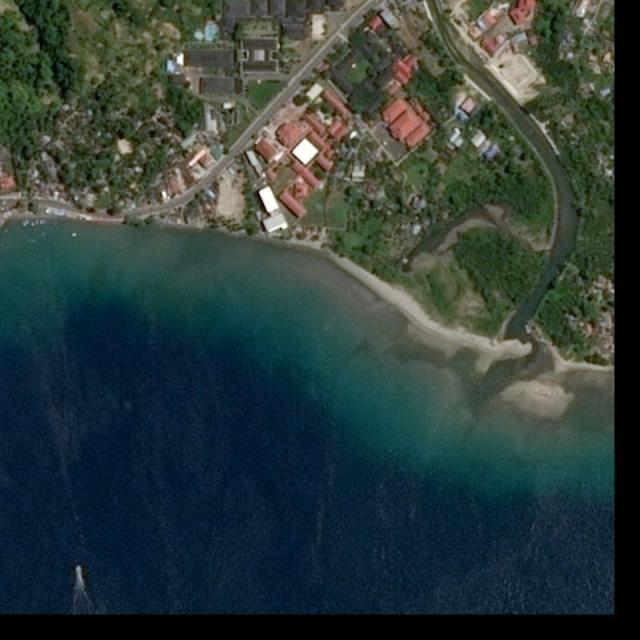ship: (74, 564, 82, 576)
